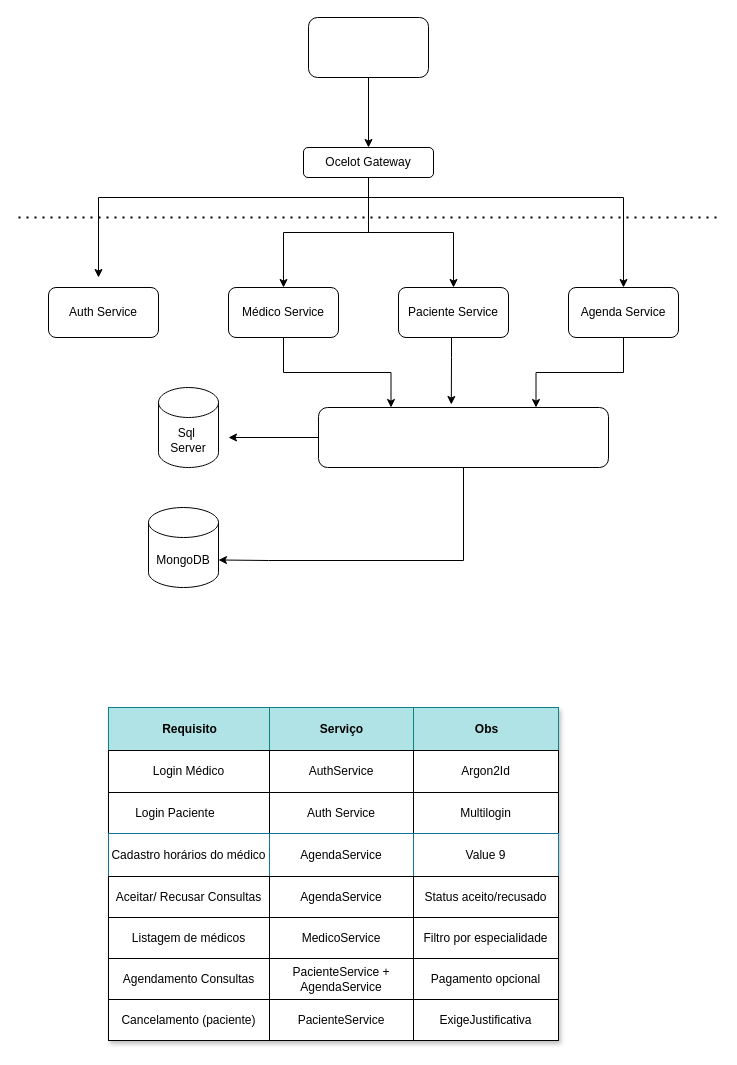
The diagram is 737 pixels wide and 1065 high, and some of its shapes have lost their labels. Each missing label, with the centre of its shape:
"Read Model" goes at point 463,437.
"Web APP/ Mobile" goes at point 368,47.
